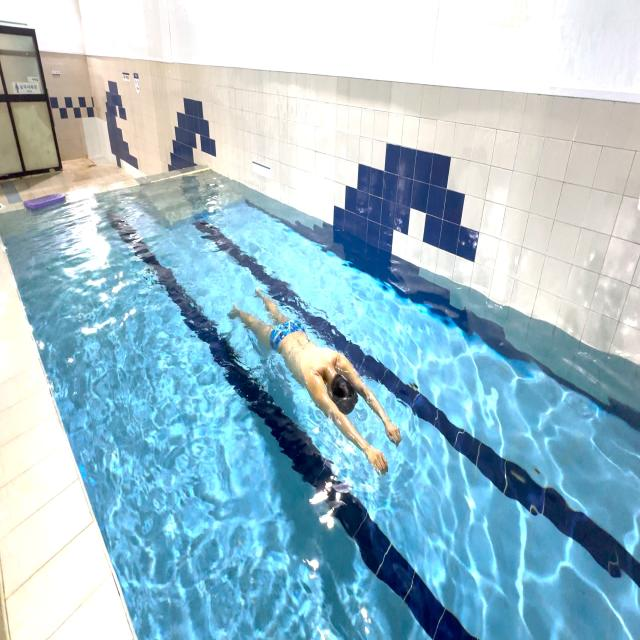Swimming: (224, 260, 406, 486)
